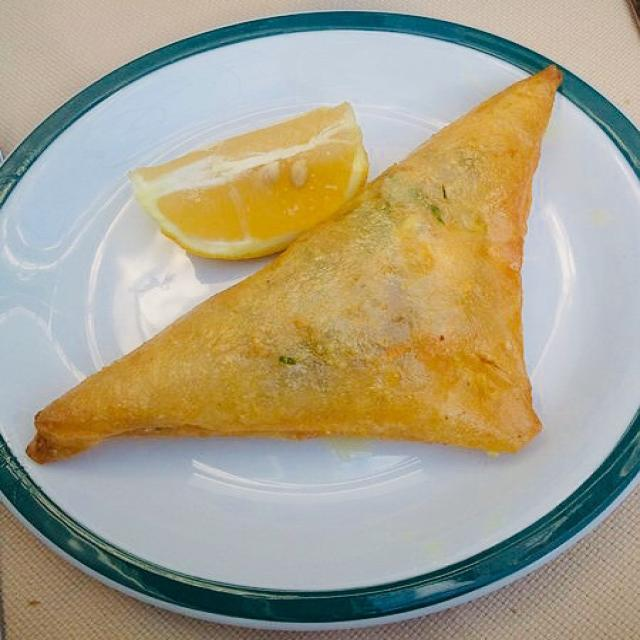brik: (25, 70, 589, 494)
